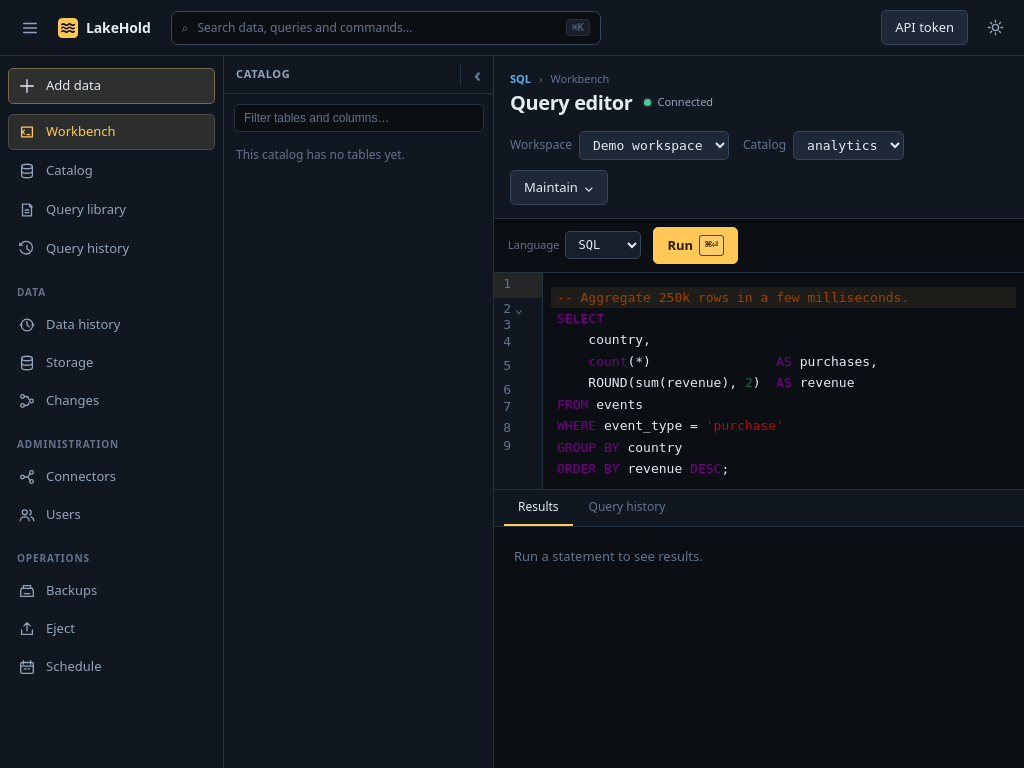
Test case: WorkbenchComponent › maintenance › runs as a dry run first and waits for confirmation
The width and height of the screenshot is (1024, 768).
What coordinates should you click on to do the following:
click the button "Maintain ⌄"
I would click on:
 (559, 187)
Its box is top-left (510, 170), bottom-right (608, 205).
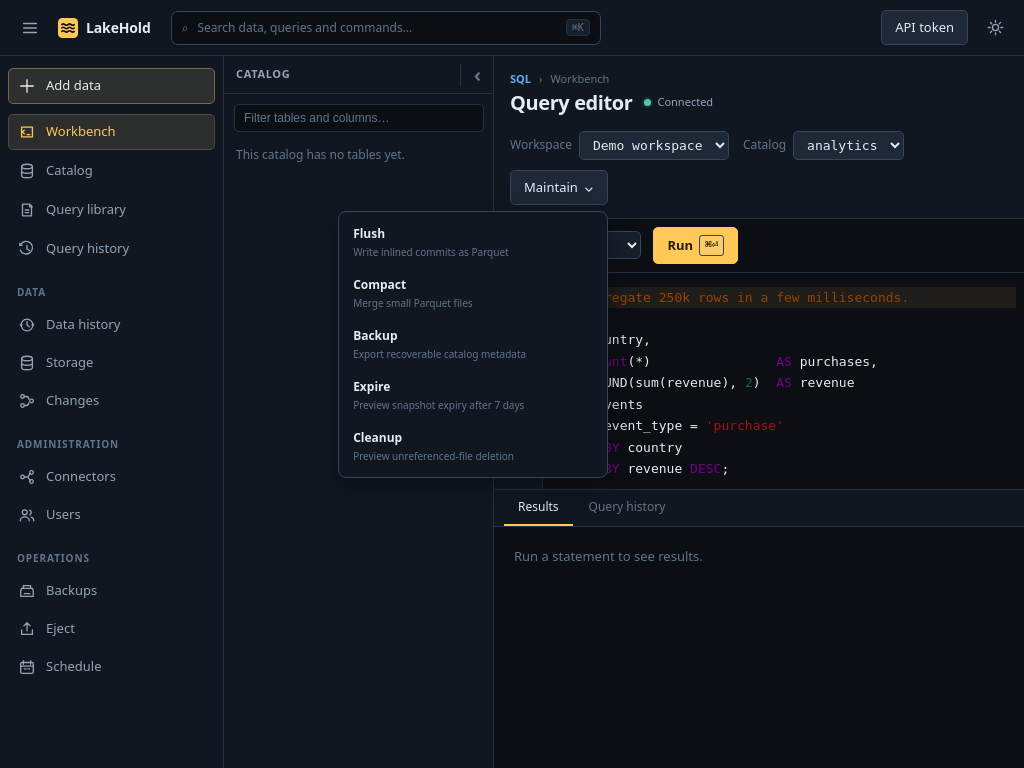
What coordinates should you click on to do the following:
click the button "Cleanup Preview unreferenced-file deletion"
I would click on:
 (473, 446)
Its box is top-left (344, 421), bottom-right (602, 472).
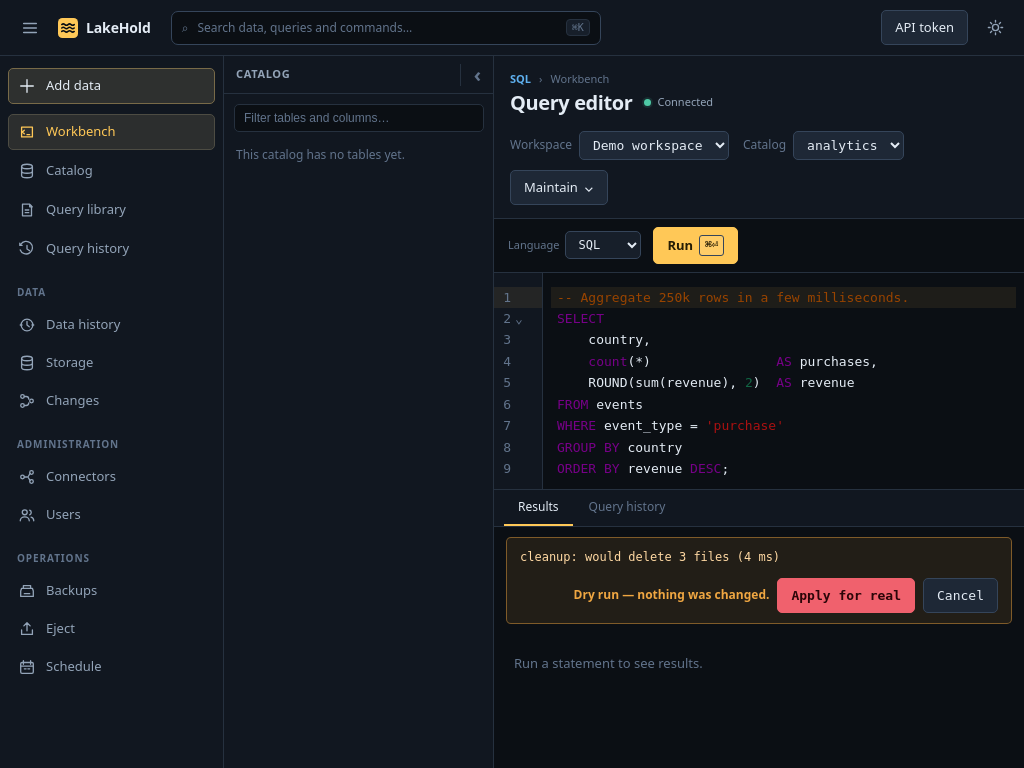
Now the text "Dry run — nothing was changed." is shown, box top-left (574, 586), bottom-right (770, 604)
